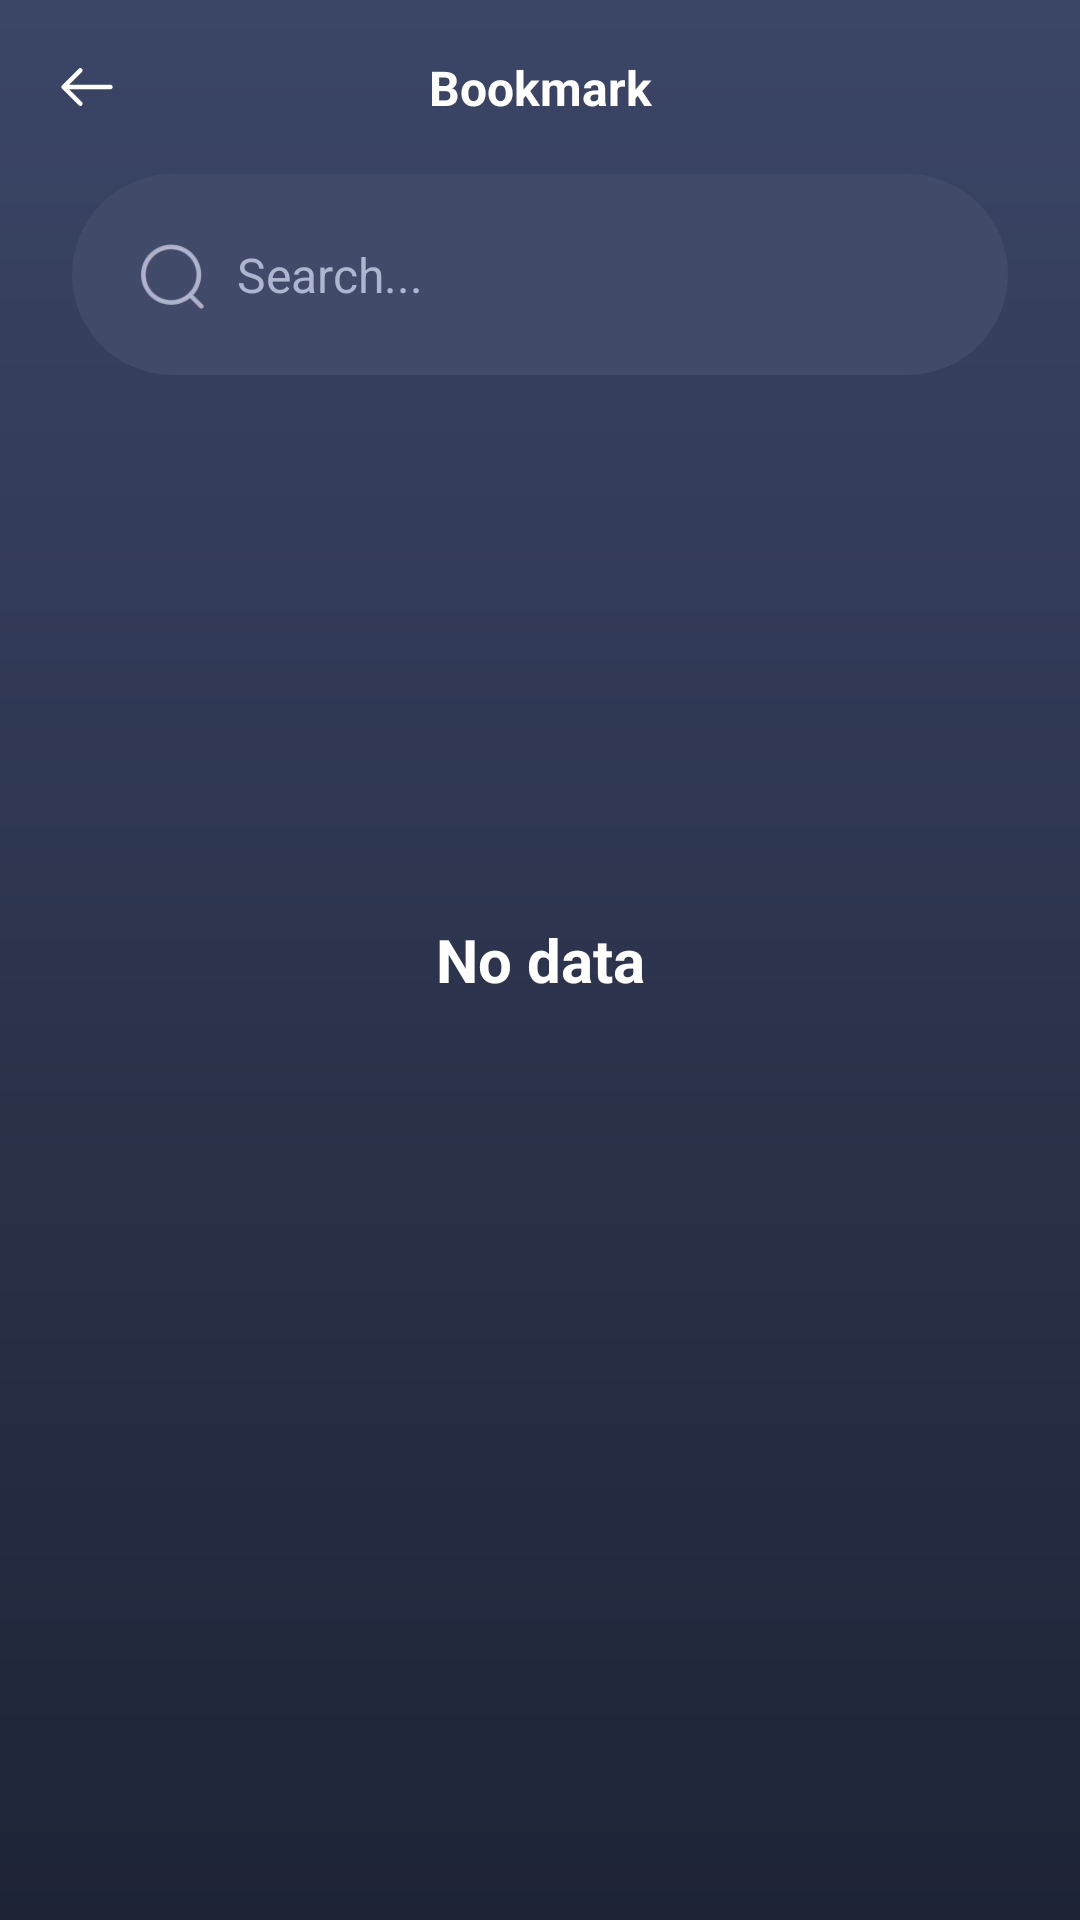

Point at icon controls on the screen. Image size 1080x1920, points as point (x, y).
ser: point (172, 276)
